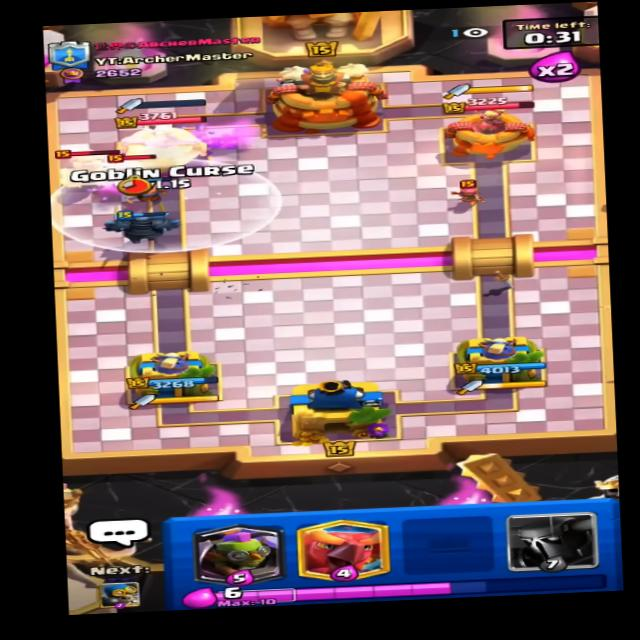archer: (447, 180, 484, 204)
tesla: (50, 143, 129, 197)
